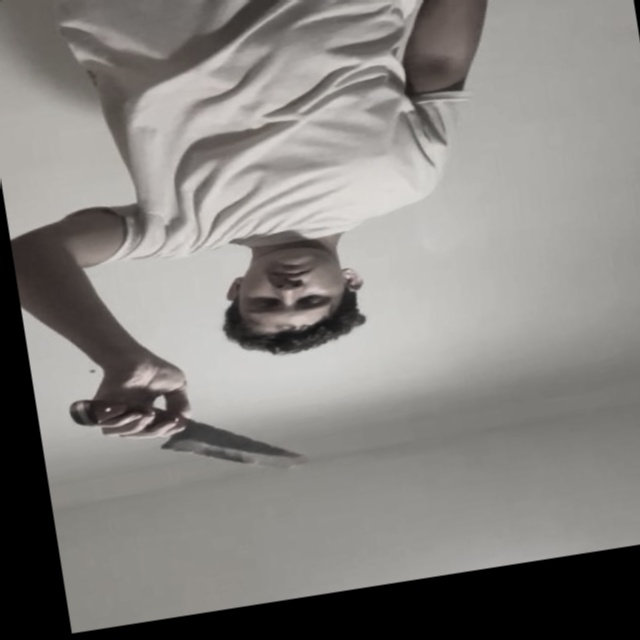Sharp-Object: (161, 414, 317, 486)
